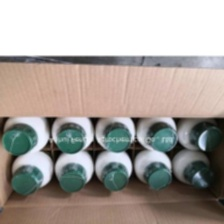book: (0, 60, 224, 224)
insecticide: (6, 140, 60, 199), (0, 102, 55, 158), (170, 108, 223, 156), (164, 144, 217, 192), (91, 137, 134, 193), (48, 108, 97, 156), (51, 148, 97, 196), (92, 107, 139, 153), (131, 148, 173, 194), (132, 112, 177, 152)
